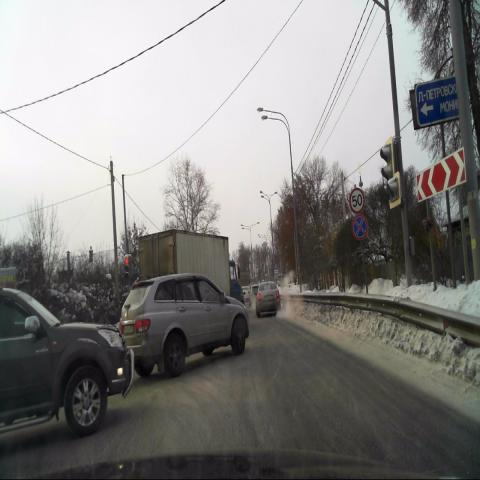3_27: (352, 214, 366, 239)
